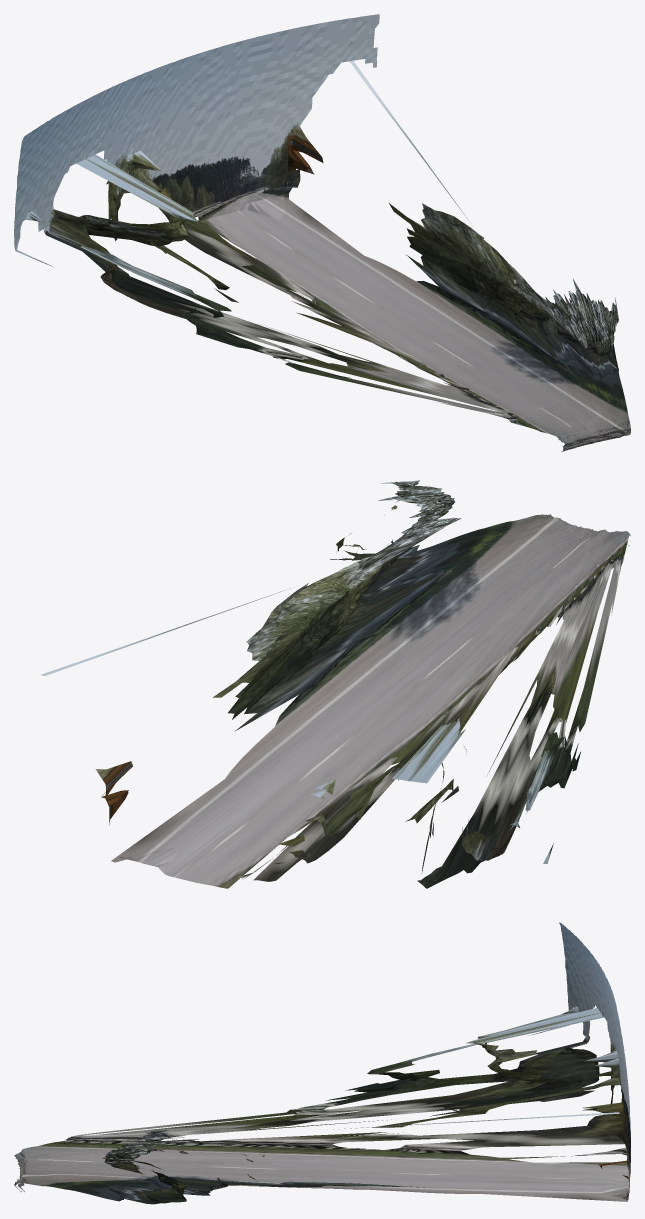
3 views of the same model, one above another, from view 1: azimuth 30°, elevation 25°; view 2: azimuth 150°, elevation 25°; view 3: azimuth 270°, elevation 25° (orthographic). The views are drawn at different scales.
Visible parts, largest first — view 1: defaultobject; view 2: defaultobject; view 3: defaultobject.
Boxes of the visible parts, bbox=[...] form: defaultobject: bbox=[14, 14, 630, 451]; defaultobject: bbox=[41, 480, 630, 888]; defaultobject: bbox=[14, 922, 630, 1204].
Bounding box in the file's own units: 29.06 × 12.47 × 44.45.
1 material, 1 textured.
